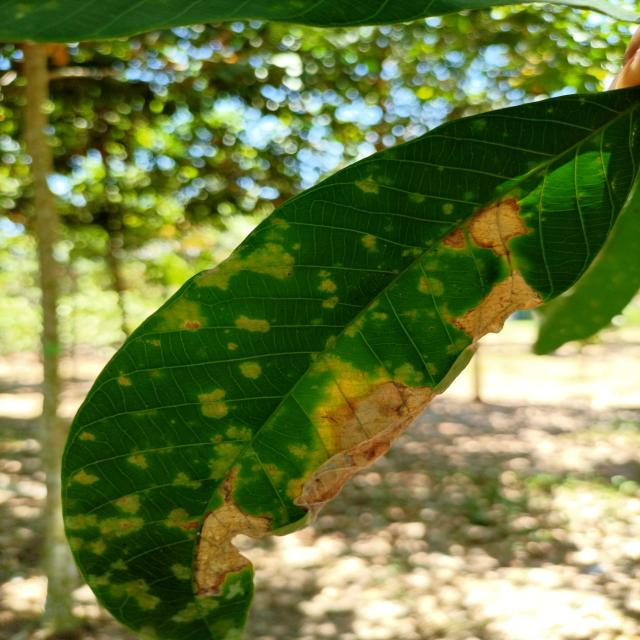Leaf-Blight: (293, 382, 438, 524), (449, 270, 546, 350), (190, 503, 270, 595), (465, 196, 533, 256), (444, 228, 465, 249)
